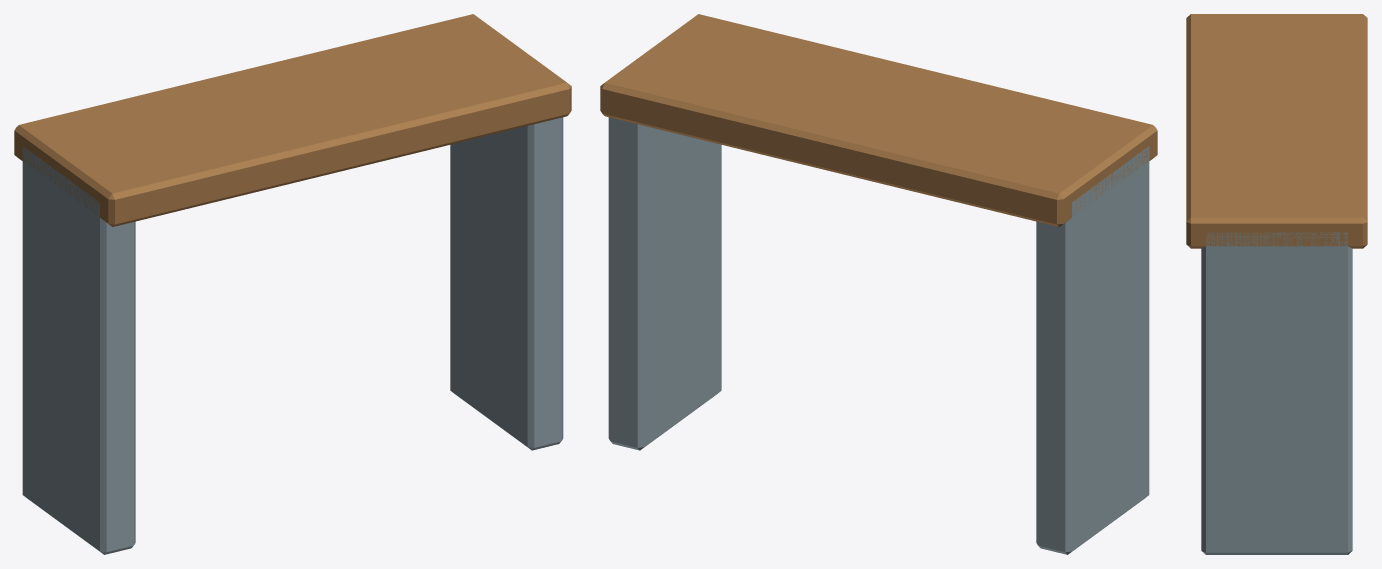
File: arcade.lod0.glb
3 views of the same model, side by side, from view 1: azimuth 30°, elevation 25°; view 2: azimuth 150°, elevation 25°; view 3: azimuth 270°, elevation 25° (orthographic). The views are drawn at different scales.
Visible parts, largest first — view 1: structure; view 2: structure; view 3: structure.
Boxes of the visible parts, box(x1,y1,x2,y2) form: structure: box(14, 14, 571, 554); structure: box(600, 14, 1157, 554); structure: box(1186, 14, 1367, 554).
Size of the model in its own units: 6.5 by 4.92 by 2.4.
